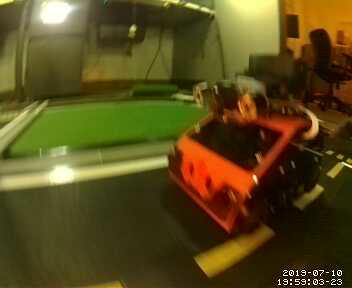pheeno: (162, 53, 325, 240)
